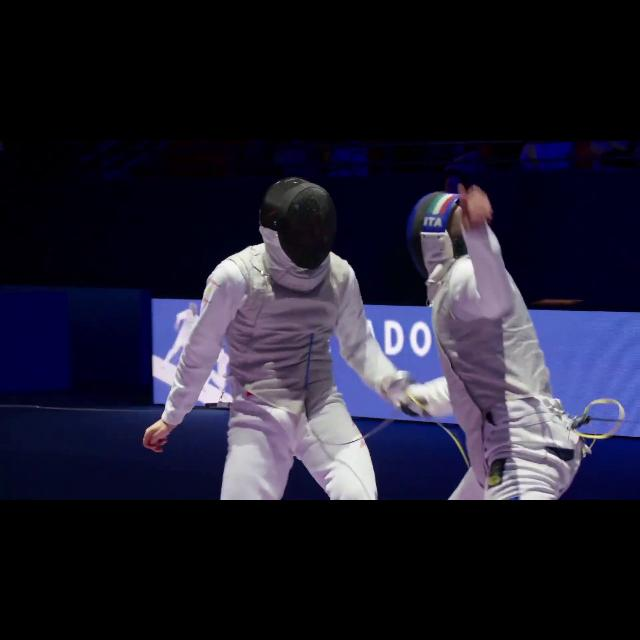blade: (300, 328, 430, 448), (382, 368, 476, 477)
